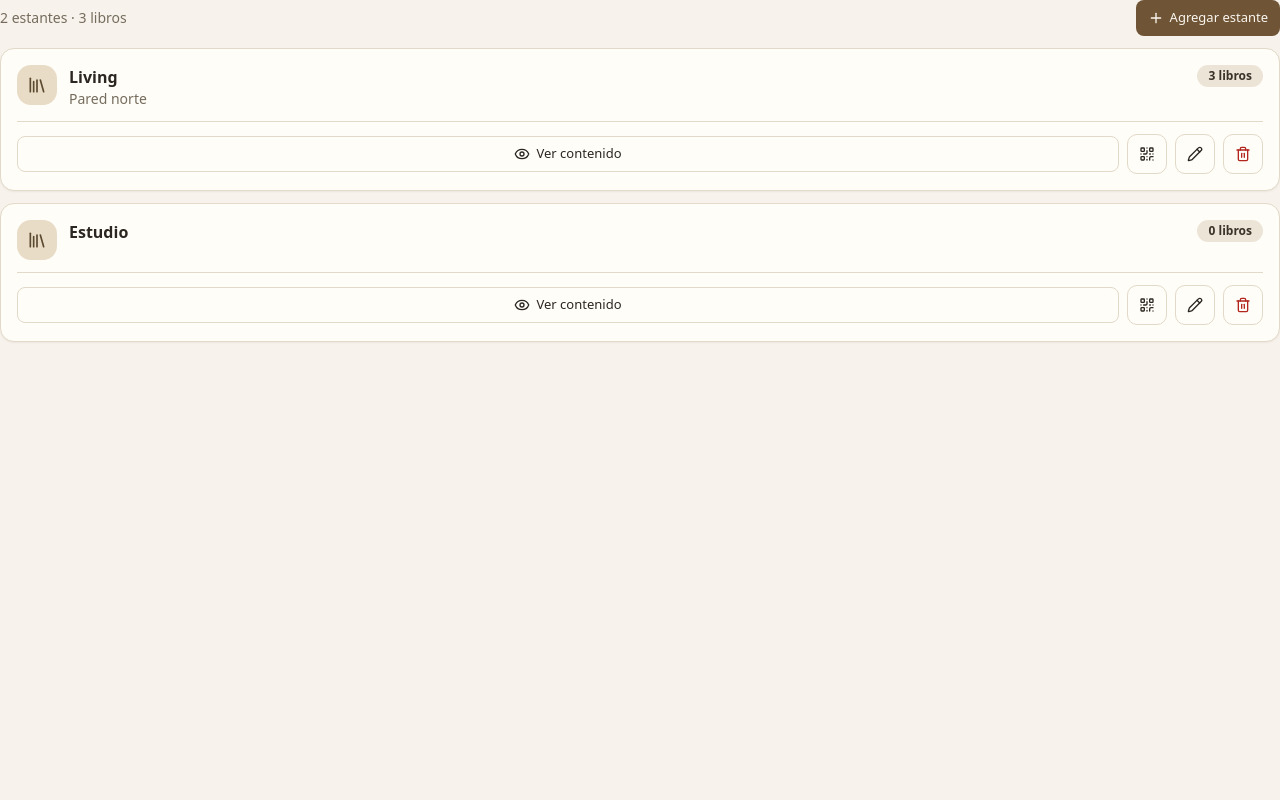
Test: ShelvesManager › warns about affected books when deleting a non-empty shelf
Check: the text "Living" is shown, box [69,66,118,88]
Note: First shelf (Living, 3 books) delete button.
Click the 1st button named "Borrar estante" at (1243, 154), box [1223,134,1263,174]
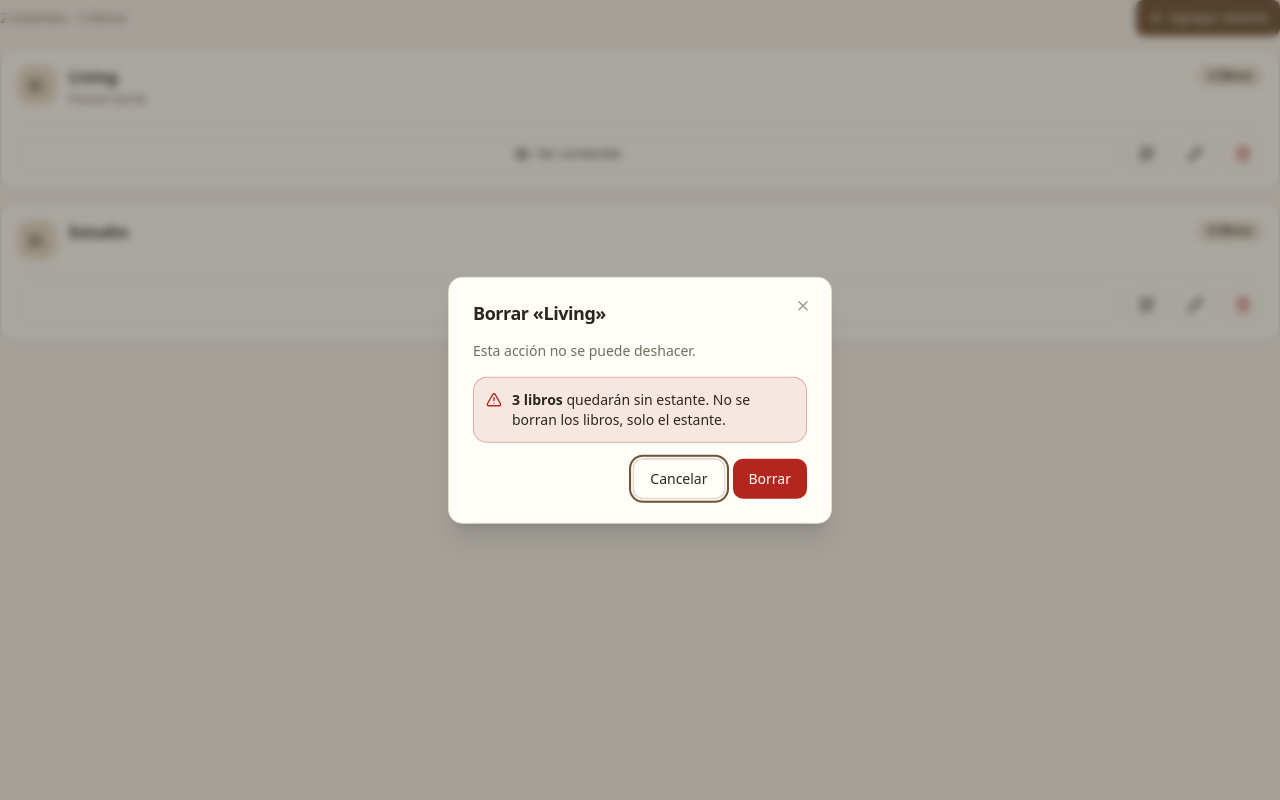
Check: the text "quedarán sin estante" is shown, box [512,389,750,428]
